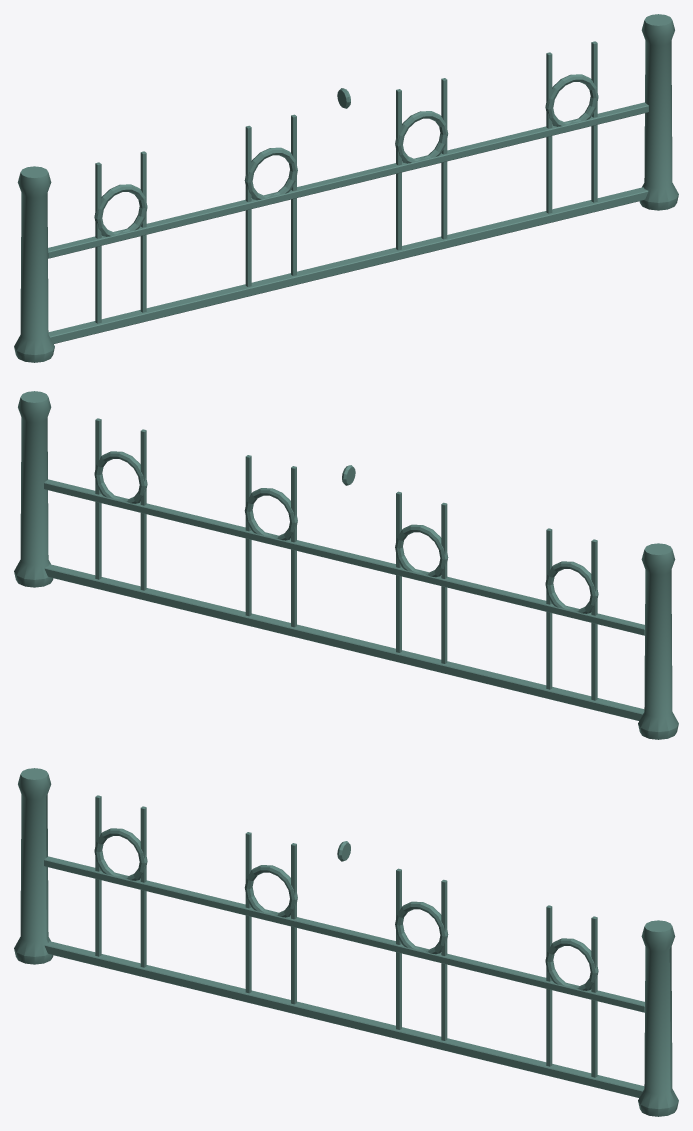
Rendered from railing.glb.
3 views of the same model, one above another, from view 1: azimuth 30°, elevation 25°; view 2: azimuth 150°, elevation 25°; view 3: azimuth 330°, elevation 25° (orthographic).
Visible parts, largest first — view 1: promenade-railing-section; view 2: promenade-railing-section; view 3: promenade-railing-section.
Part boxes in pixels (box(x1,y1,x2,y2)): promenade-railing-section: box(14, 14, 678, 362); promenade-railing-section: box(14, 391, 678, 739); promenade-railing-section: box(14, 768, 678, 1116).
Size of the model in its own units: 4.08 by 1.13 by 0.2201.
